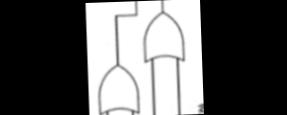or: (93, 59, 141, 115), (138, 7, 185, 64)
